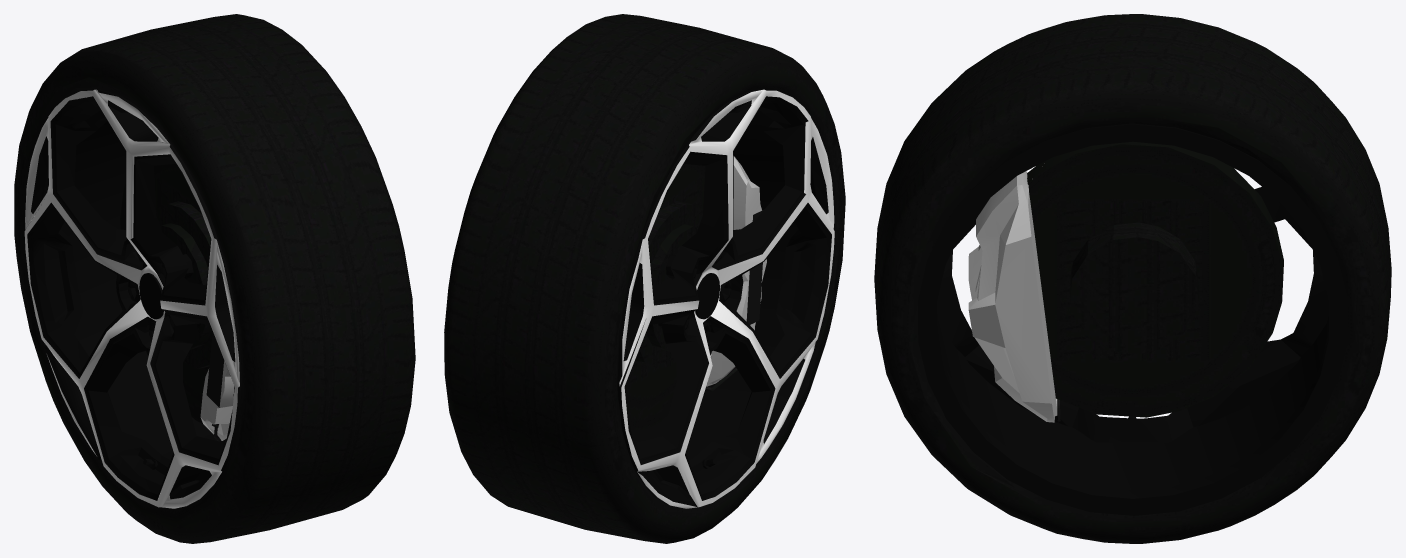
The model's file is huracan-rims-tires-lf.glb.
3 renders of one model, left to right at view 1: azimuth 30°, elevation 25°; view 2: azimuth 150°, elevation 25°; view 3: azimuth 270°, elevation 25°, orthographic.
Parts seen in each view (by area): view 1: Object_261, Object_185; view 2: Object_261, Object_185; view 3: Object_185, Object_261.
Part boxes in pixels (bbox=[...]): Object_261: bbox=[14, 14, 415, 543]; Object_185: bbox=[24, 89, 241, 508]; Object_261: bbox=[444, 14, 845, 543]; Object_185: bbox=[617, 89, 834, 508]; Object_185: bbox=[918, 123, 1347, 515]; Object_261: bbox=[874, 14, 1391, 543].
Bounding box in the file's own units: 1.03 × 2.68 × 2.68.
6 materials, 2 textured.
